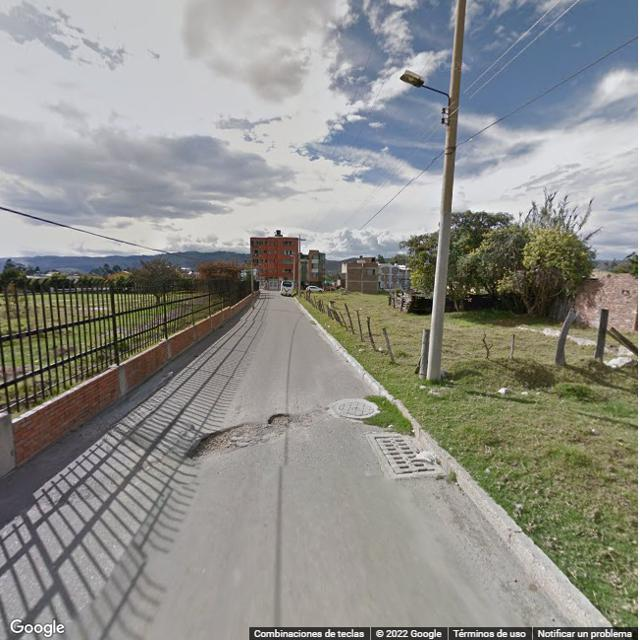D40: (184, 415, 265, 466), (268, 414, 298, 433)
